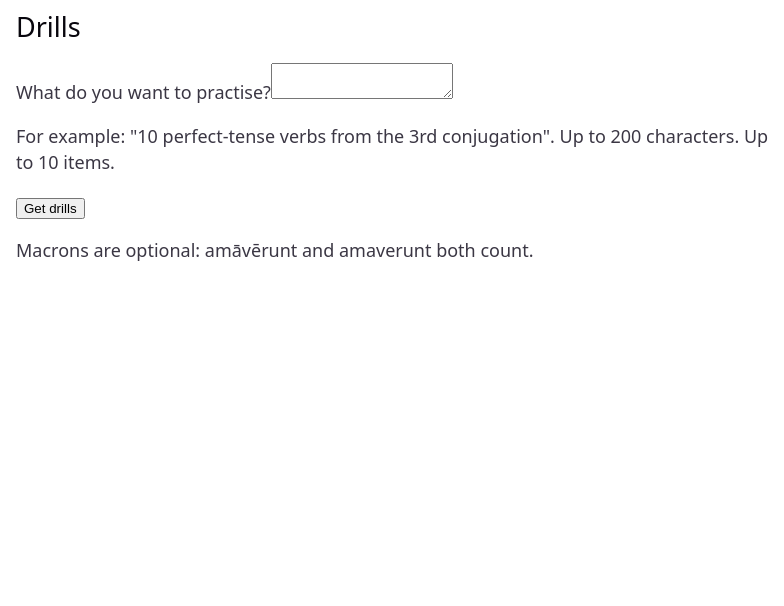
Test: a wrong answer shows the accepted forms, what was typed, and the feedback with badges
Type "rego perfect, rex plural" into the text box labelled "What do you want to practise?". click: (362, 81)
box: [271,63,453,99]
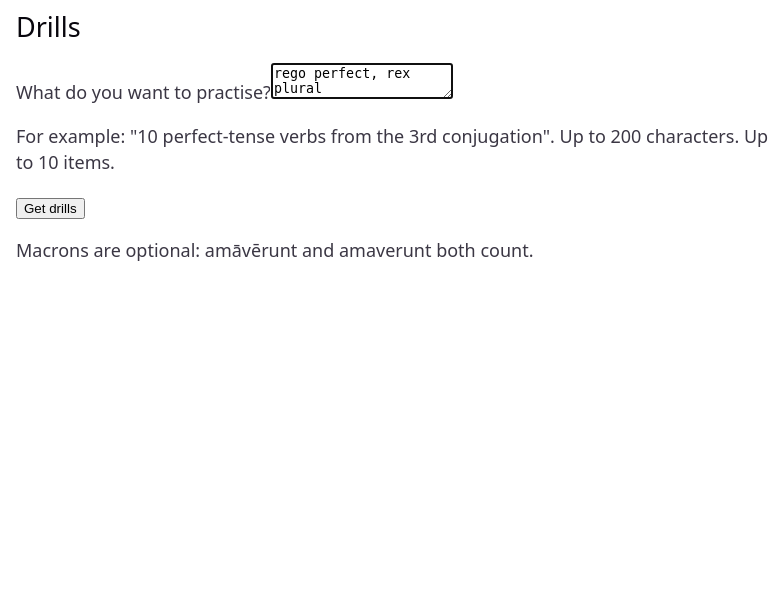
Click the button "Get drills". click: (50, 209)
box: [16,198,85,219]
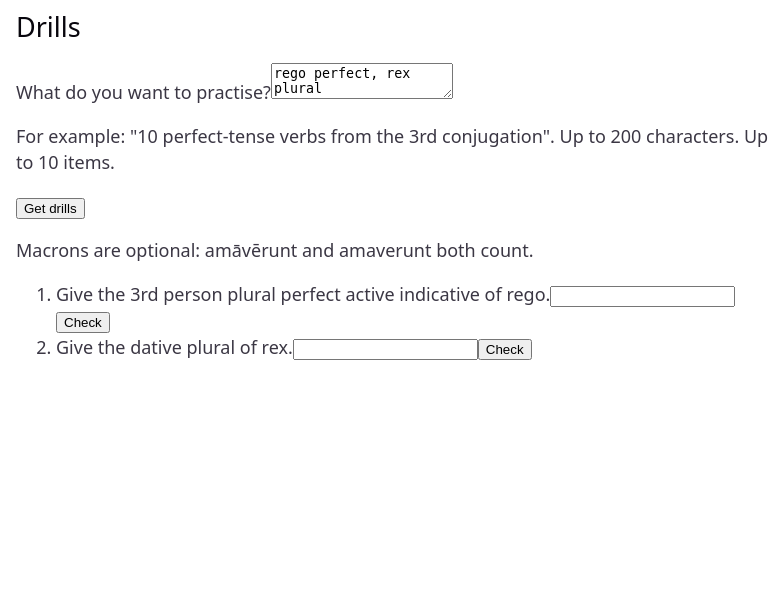
Type "regunt" into the field labelled "Give the 3rd person plural perfect active indicative of rego.". click: (643, 297)
box: [550,286,735,307]
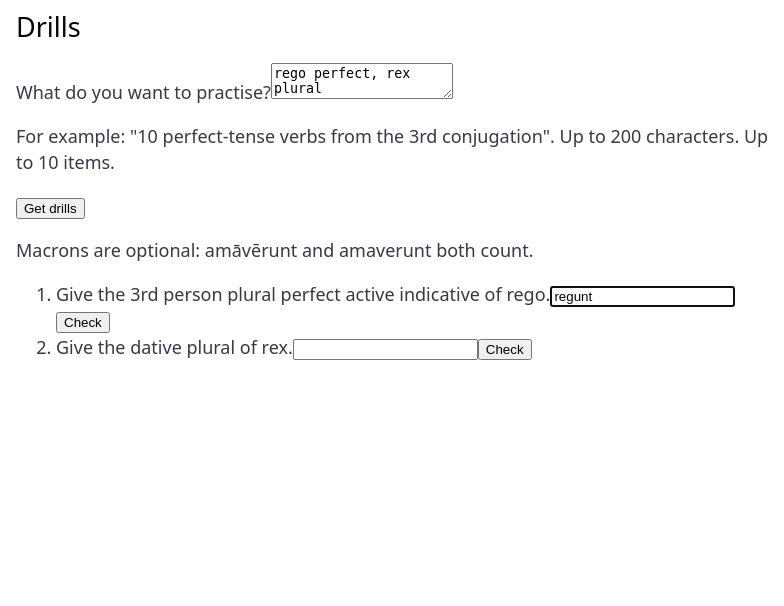
Click the 1st button "Check". click: (83, 323)
box: [56,312,110,334]
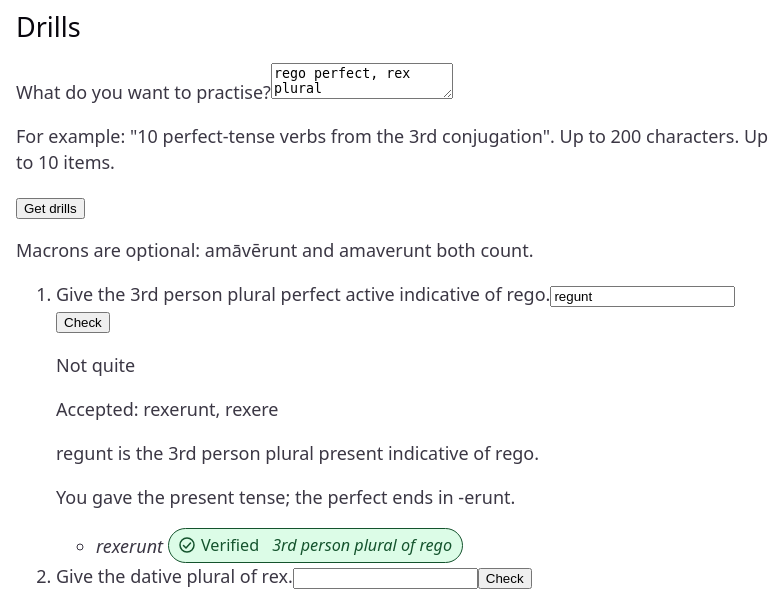
Now the text "Not quite" is shown, box [56,353,135,377]
Now the text "Accepted: rexerunt, rexere" is shown, box [56,397,278,421]
Now the text "regunt is the 3rd person plural present indicative of rego." is shown, box [56,441,539,465]
